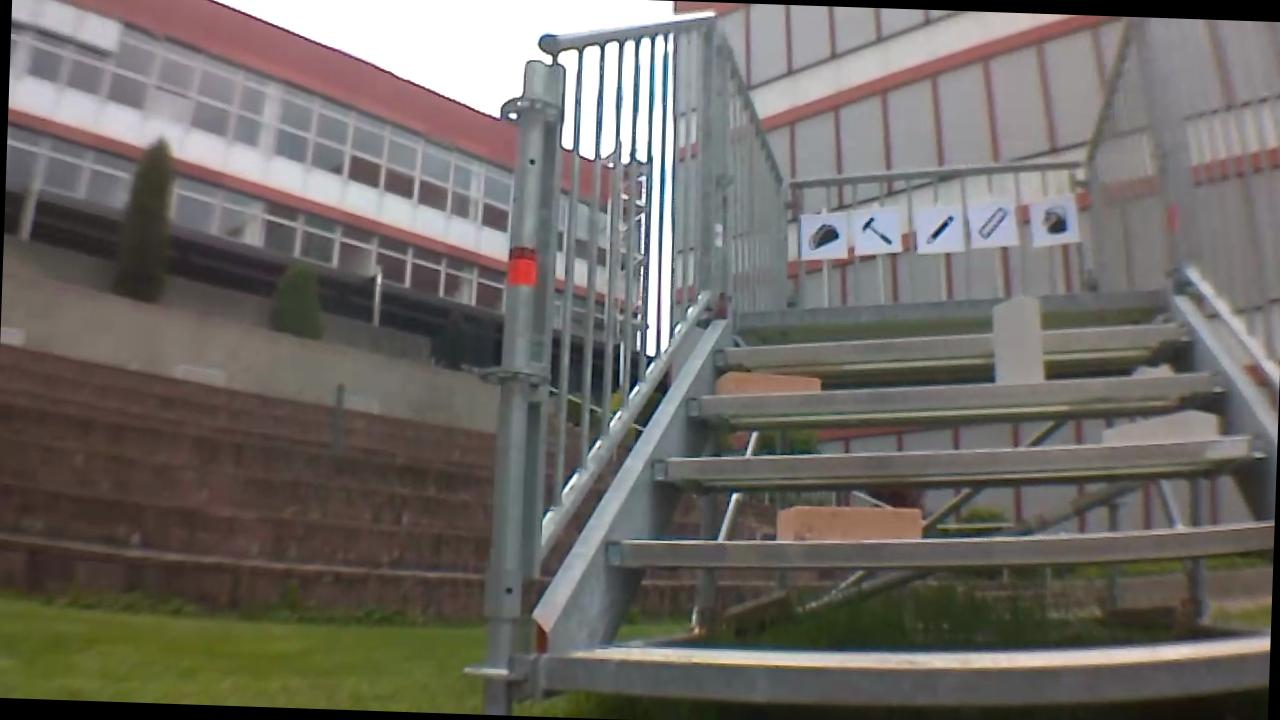brick: (774, 502, 922, 542), (991, 296, 1044, 384), (1103, 409, 1217, 447), (716, 370, 820, 396)
bucket: (1036, 200, 1073, 237)
edge: (539, 618, 1268, 716), (605, 500, 1272, 587), (653, 415, 1265, 498), (690, 353, 1228, 431), (717, 308, 1186, 381), (736, 273, 1167, 341)
hammer: (858, 212, 900, 246)
pencil: (921, 210, 960, 250)
ruler: (975, 203, 1013, 242)
steps: (533, 260, 1280, 720)
taco: (802, 216, 843, 252)
